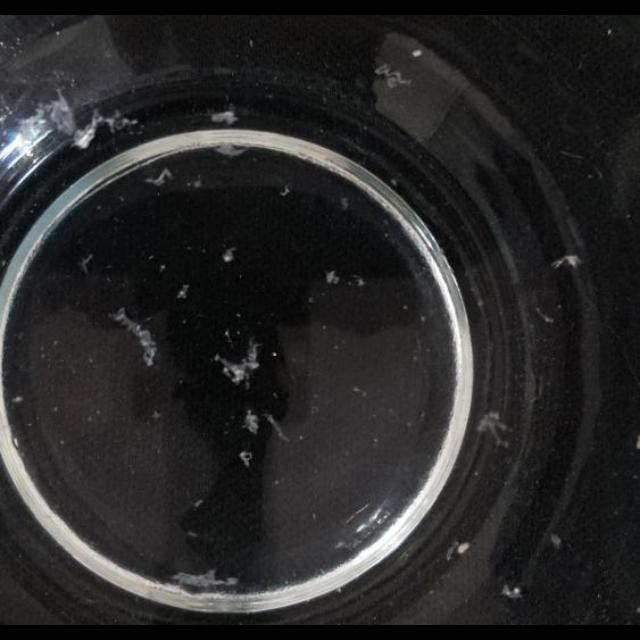Fibre: (10, 88, 80, 156), (74, 103, 136, 149), (110, 308, 158, 367), (214, 340, 264, 386), (170, 567, 238, 591), (374, 62, 411, 88), (144, 167, 174, 187), (209, 107, 239, 125), (551, 254, 581, 270), (214, 144, 246, 158), (501, 583, 523, 599), (242, 412, 258, 434), (80, 253, 94, 274), (324, 270, 340, 286), (239, 450, 253, 468), (176, 283, 190, 299), (222, 247, 236, 263), (550, 534, 562, 548), (280, 186, 290, 197), (356, 276, 366, 286), (12, 396, 24, 404)
microbeads: (475, 412, 513, 448), (458, 542, 470, 556), (352, 386, 366, 396), (152, 411, 162, 422), (193, 498, 203, 508), (412, 48, 422, 58), (334, 542, 346, 550), (402, 304, 410, 312), (160, 264, 167, 272), (419, 315, 426, 323), (311, 512, 317, 520), (336, 586, 342, 594), (299, 434, 305, 441), (333, 344, 339, 351), (607, 28, 613, 34), (272, 352, 278, 358)
